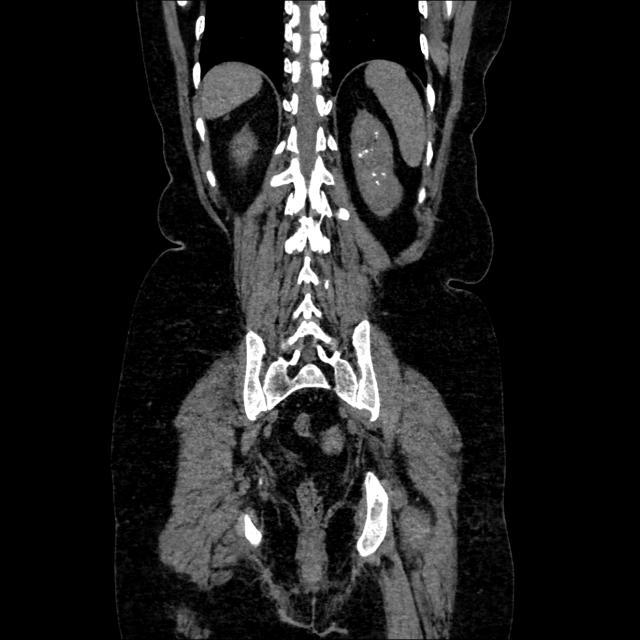kidney: (347, 96, 413, 228), (225, 118, 262, 177)
stone: (356, 147, 371, 161), (379, 168, 388, 177), (370, 171, 380, 179), (373, 180, 383, 187), (374, 129, 379, 141)
